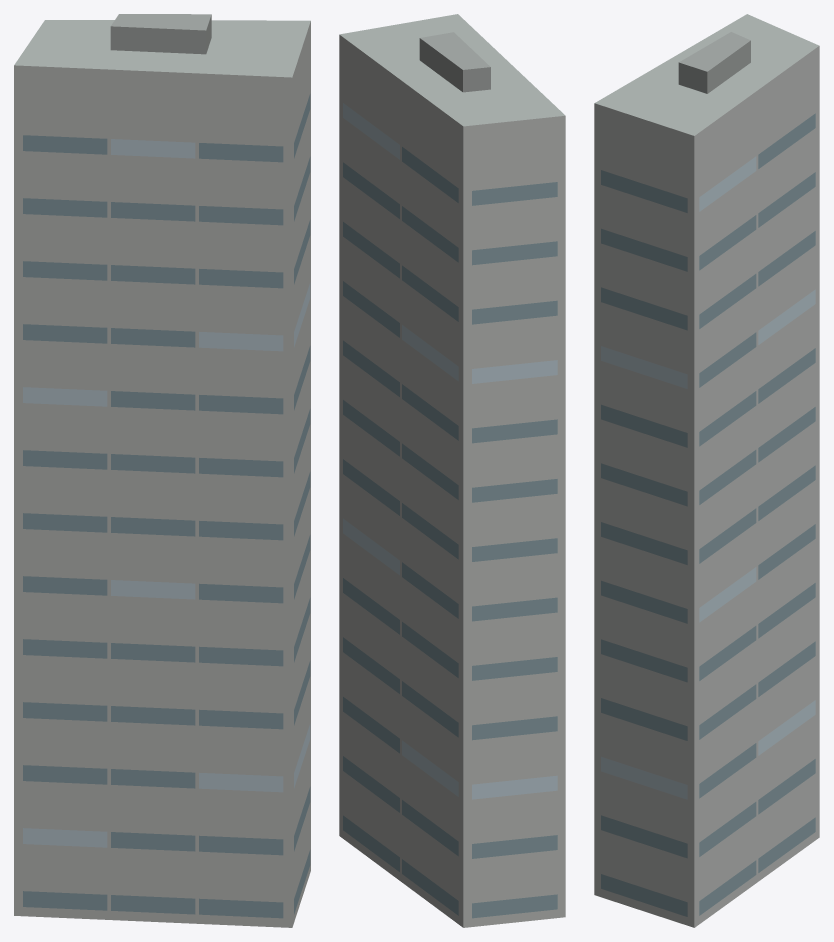
Rendered from fallback-jamsil-ricenz-201.glb.
The picture shows the model from 3 angles, left to right: view 1: azimuth 30°, elevation 25°; view 2: azimuth 150°, elevation 25°; view 3: azimuth 270°, elevation 25°; orthographic projection. The views are drawn at different scales.
Parts seen in each view (by area): view 1: fallback-jamsil-ricenz-201; view 2: fallback-jamsil-ricenz-201; view 3: fallback-jamsil-ricenz-201.
Boxes of the visible parts, x1,y1,x2,y2 form: fallback-jamsil-ricenz-201: (14,14,310,927); fallback-jamsil-ricenz-201: (339,14,565,927); fallback-jamsil-ricenz-201: (594,14,819,927).
Bounding box in the file's own units: 28.29 × 88 × 22.04.
